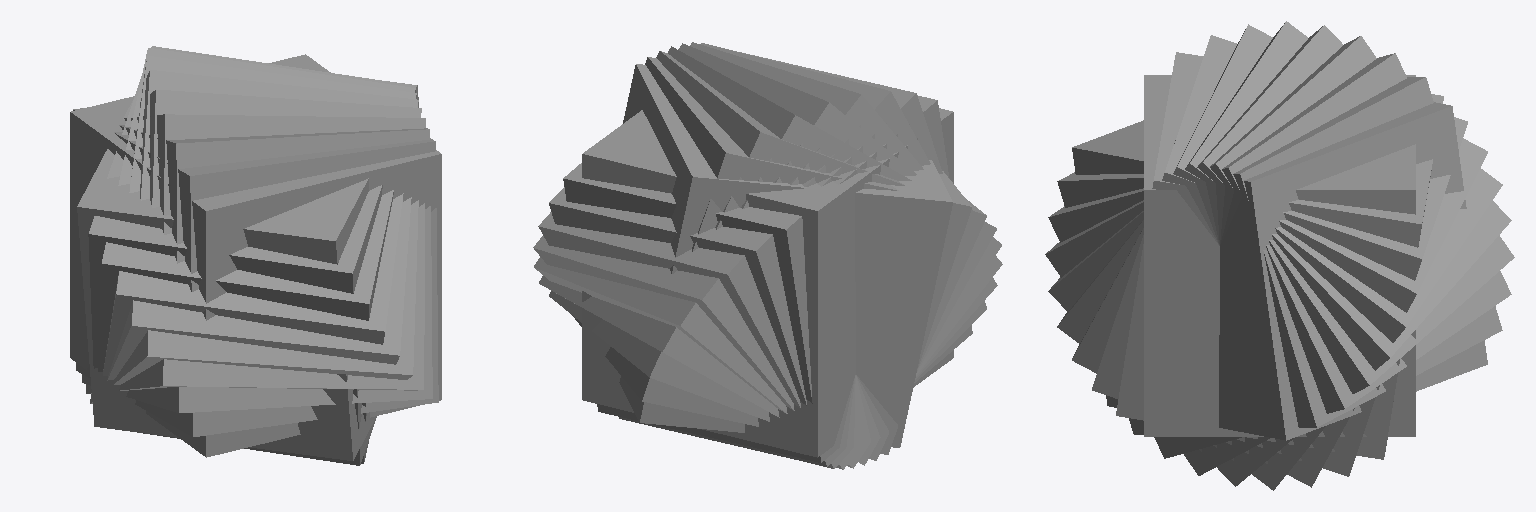
The model's file is upgrade.obj.
3 renders of one model, left to right at view 1: azimuth 30°, elevation 25°; view 2: azimuth 150°, elevation 25°; view 3: azimuth 270°, elevation 25°, orthographic.
Parts seen in each view (by area): view 1: Cube; view 2: Cube; view 3: Cube.
Boxes of the visible parts, box(x1,y1,x2,y2) form: Cube: box(70, 46, 441, 465); Cube: box(533, 42, 1002, 469); Cube: box(1045, 21, 1514, 490).
Size of the model in its own units: 1.59 by 1.55 by 1.73.